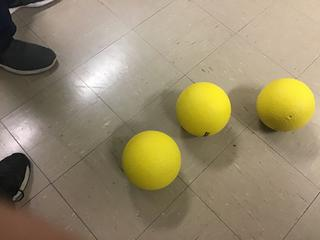power_cell: (117, 124, 187, 194), (249, 71, 316, 136), (173, 79, 231, 141)
